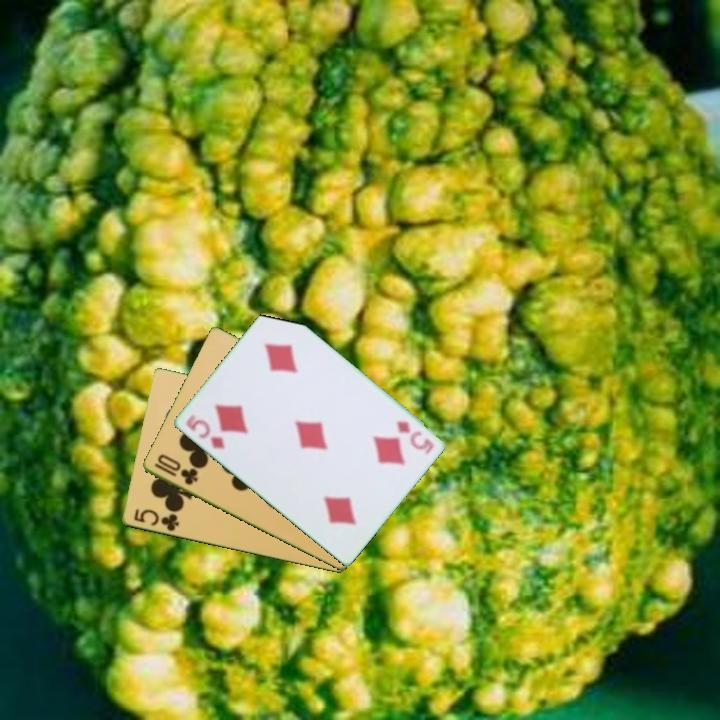10c: (150, 451, 200, 488)
5c: (130, 505, 182, 534)
5d: (182, 411, 227, 453), (392, 417, 431, 453)
